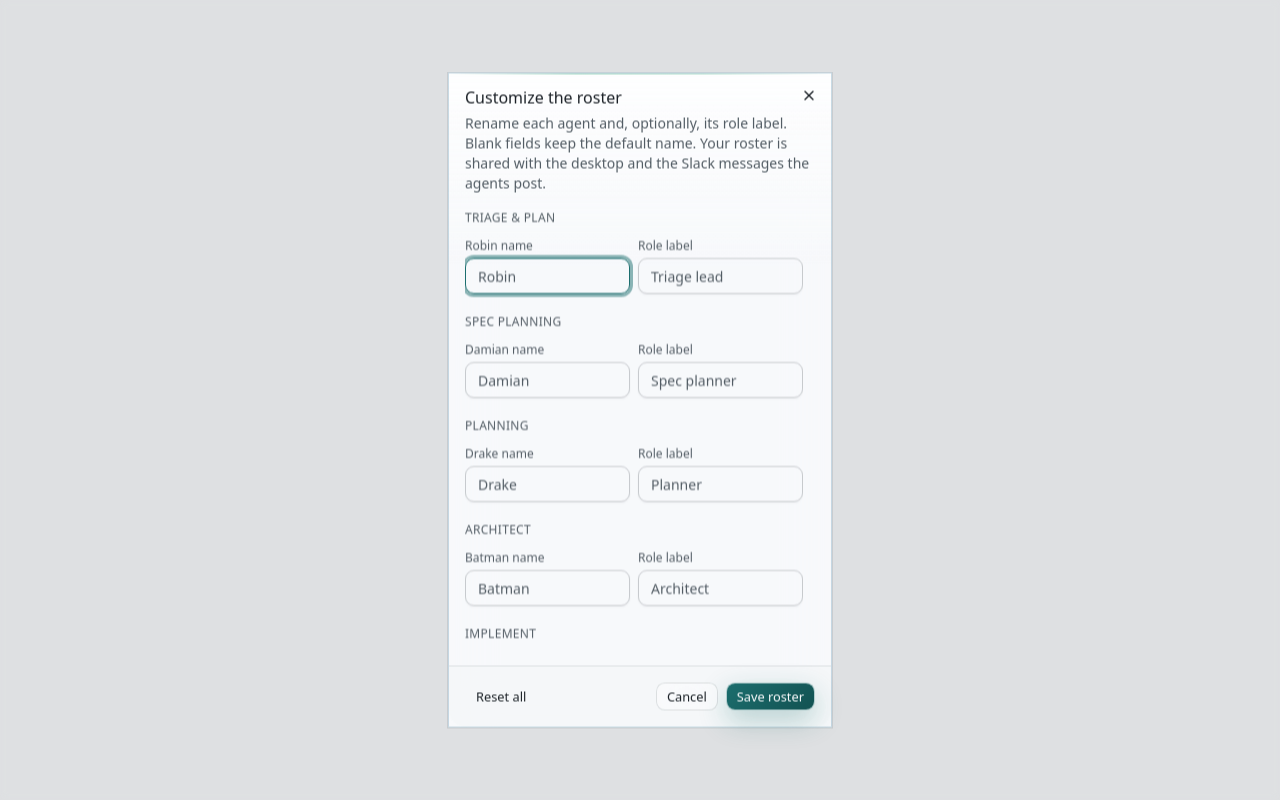
Scenario: CustomThemeEditor › stays open and shows the error when the save REJECTS
Click the button "Save roster" at coordinates (770, 696), box [726, 682, 815, 710]
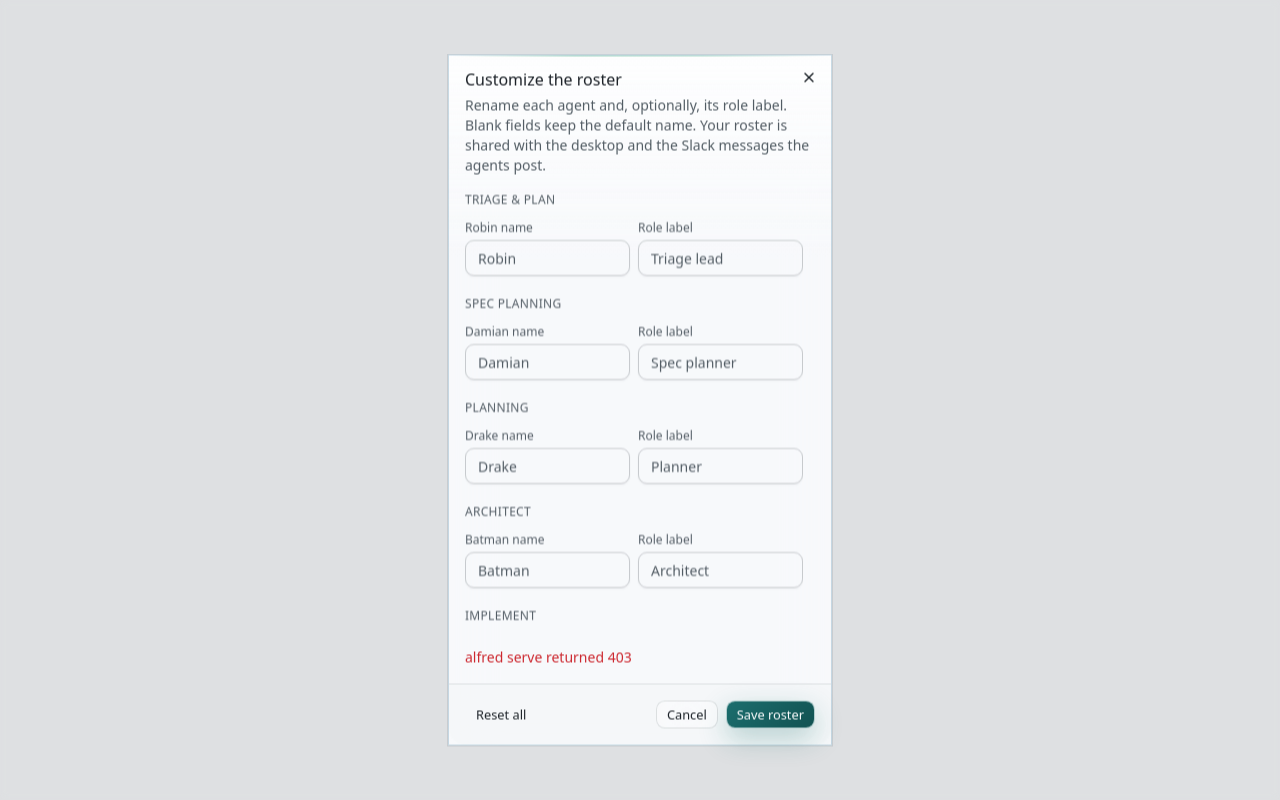
Expected: the message shows "403", [465, 648, 632, 666]
